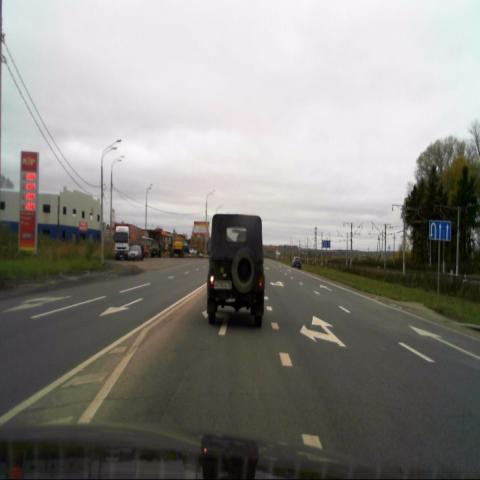5_15_1: (428, 221, 451, 241)
